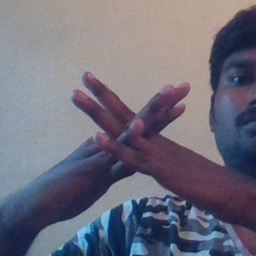W: (62, 59, 201, 204)
